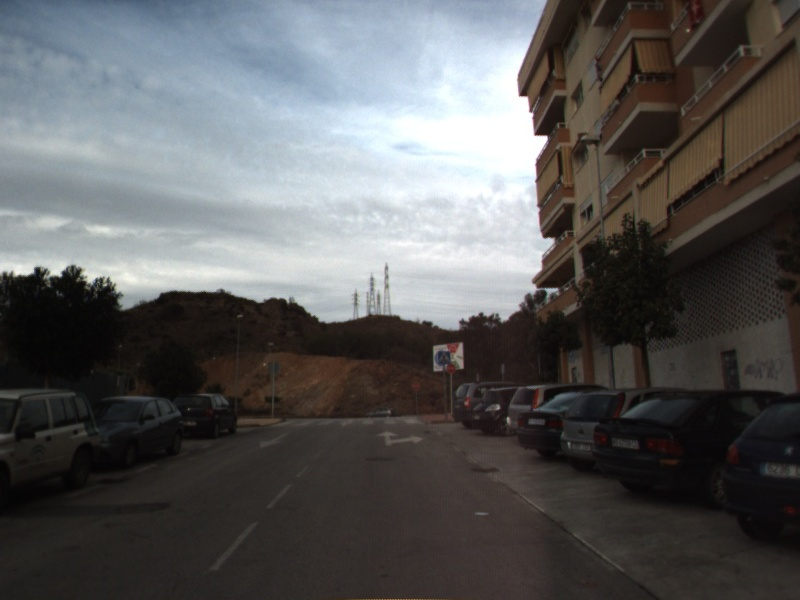STRAIGHT_RIGHT: (373, 428, 426, 448)
